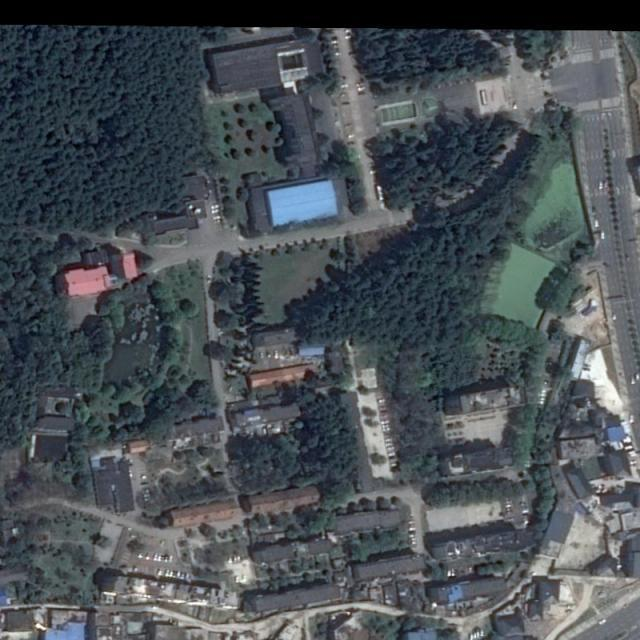vehicle: (375, 185, 386, 202), (366, 168, 379, 178), (629, 374, 638, 387), (266, 349, 274, 362), (599, 229, 607, 242), (328, 38, 340, 46), (354, 80, 366, 88), (274, 348, 281, 361), (629, 412, 636, 425), (339, 82, 350, 90), (210, 202, 220, 210), (210, 208, 221, 215), (356, 86, 367, 93), (594, 218, 600, 230), (598, 178, 604, 190), (213, 214, 222, 222), (599, 618, 607, 625)
